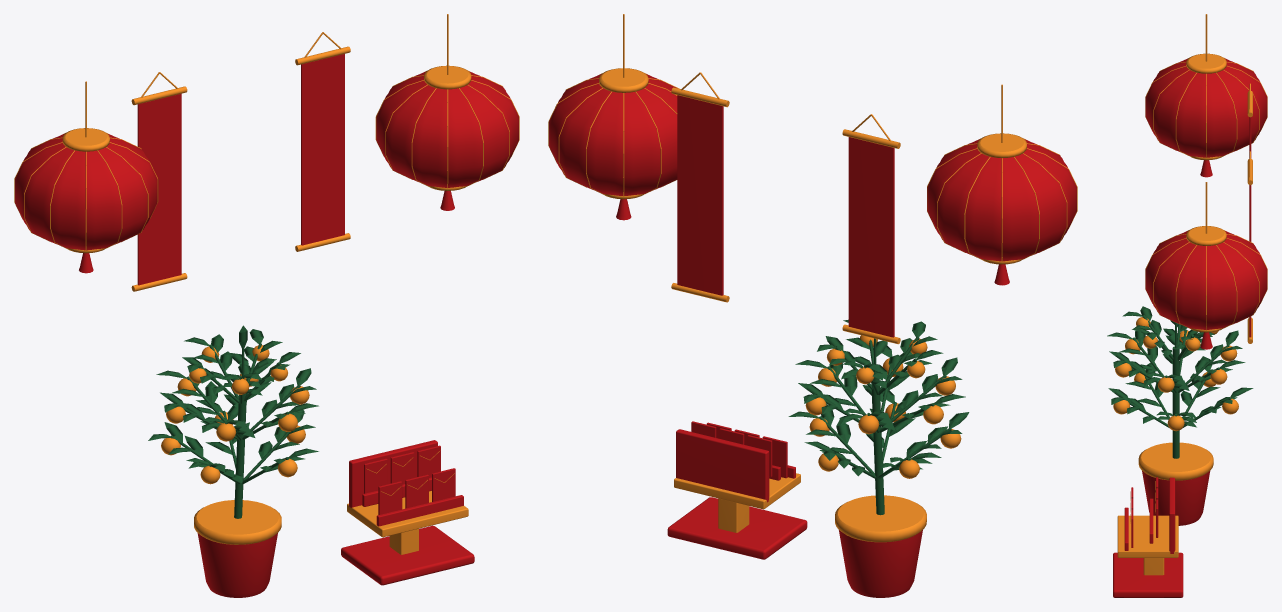
The picture shows the model from 3 angles, left to right: view 1: azimuth 30°, elevation 25°; view 2: azimuth 150°, elevation 25°; view 3: azimuth 270°, elevation 25°; orthographic projection. The views are drawn at different scales.
Visible parts, largest first — view 1: LANTERN_02, LANTERN_01, ENVELOPE_STAND, PLANT_Green, BANNER_02, BANNER_01, PLANT_Gold, PLANT_Red; view 2: LANTERN_01, LANTERN_02, ENVELOPE_STAND, PLANT_Green, BANNER_01, BANNER_02, PLANT_Gold, PLANT_Red; view 3: LANTERN_02, LANTERN_01, PLANT_Green, ENVELOPE_STAND, PLANT_Gold, PLANT_Red, BANNER_02, BANNER_01.
Part boxes in pixels (left/top/right/bottom): LANTERN_02: left=375, top=14, right=519, bottom=210; LANTERN_01: left=14, top=81, right=158, bottom=273; ENVELOPE_STAND: left=341, top=440, right=474, bottom=585; PLANT_Green: left=148, top=325, right=318, bottom=518; BANNER_02: left=295, top=32, right=350, bottom=251; BANNER_01: left=131, top=72, right=187, bottom=291; PLANT_Gold: left=161, top=345, right=309, bottom=544; PLANT_Red: left=197, top=533, right=277, bottom=597; LANTERN_01: left=927, top=84, right=1077, bottom=285; LANTERN_02: left=548, top=14, right=679, bottom=220; ENVELOPE_STAND: left=667, top=421, right=807, bottom=559; PLANT_Green: left=788, top=319, right=969, bottom=515; BANNER_01: left=842, top=114, right=900, bottom=344; BANNER_02: left=671, top=72, right=729, bottom=302; PLANT_Gold: left=805, top=335, right=961, bottom=542; PLANT_Red: left=839, top=530, right=922, bottom=597; LANTERN_02: left=1145, top=182, right=1267, bottom=349; LANTERN_01: left=1145, top=14, right=1267, bottom=177; PLANT_Green: left=1107, top=306, right=1253, bottom=458; ENVELOPE_STAND: left=1113, top=477, right=1183, bottom=597; PLANT_Gold: left=1113, top=317, right=1238, bottom=480; PLANT_Red: left=1142, top=471, right=1210, bottom=525; BANNER_02: left=1247, top=151, right=1252, bottom=343; BANNER_01: left=1247, top=83, right=1252, bottom=158.
Size of the model in its own units: 1.96 by 2.02 by 0.6637.
